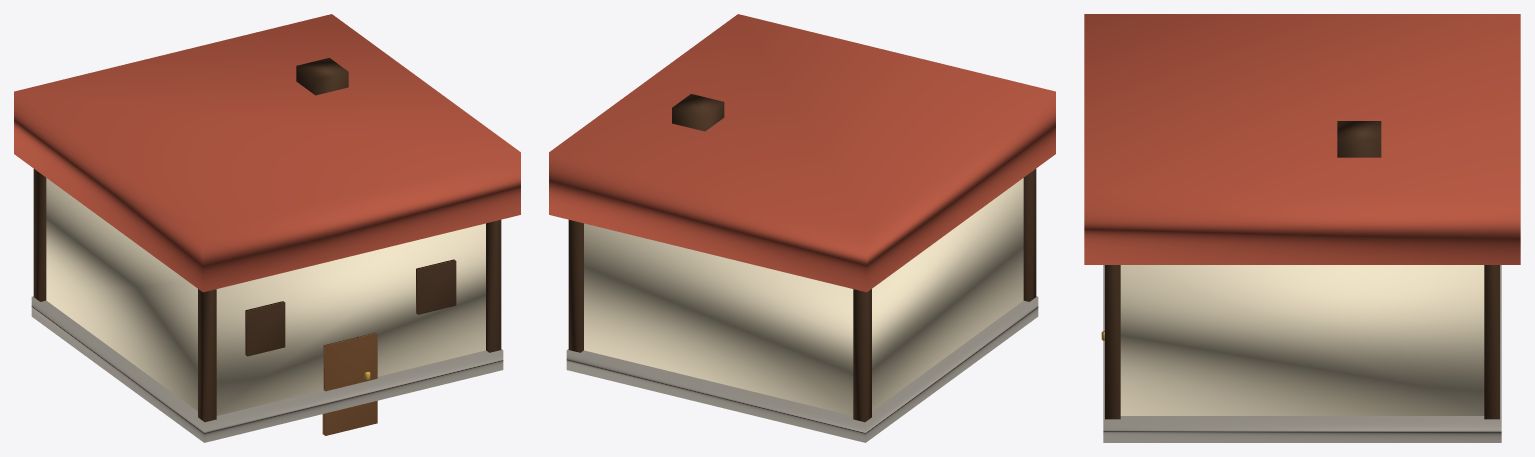
File: house.glb
3 views of the same model, side by side, from view 1: azimuth 30°, elevation 25°; view 2: azimuth 150°, elevation 25°; view 3: azimuth 270°, elevation 25° (orthographic). The views are drawn at different scales.
Parts seen in each view (by area): view 1: roof, walls, foundation, corners, door, window_right, window_left, chimney; view 2: roof, walls, foundation, corners, chimney; view 3: roof, walls, foundation, corners, chimney.
Boxes of the visible parts, x1,y1,x2,y2 form: roof: (14, 14, 520, 292); walls: (46, 178, 485, 415); foundation: (31, 296, 503, 442); corners: (33, 169, 501, 422); door: (322, 332, 377, 435); window_right: (416, 259, 456, 314); window_left: (245, 301, 285, 356); chimney: (296, 58, 348, 95); roof: (549, 14, 1055, 292); walls: (584, 178, 1023, 415); foundation: (566, 296, 1038, 442); corners: (568, 169, 1036, 422); chimney: (672, 94, 724, 131); roof: (1084, 14, 1520, 264); walls: (1120, 265, 1484, 415); foundation: (1103, 265, 1501, 442); corners: (1105, 265, 1499, 419); chimney: (1337, 121, 1381, 157).
Size of the model in its own units: 6.7 by 5.28 by 6.9.
